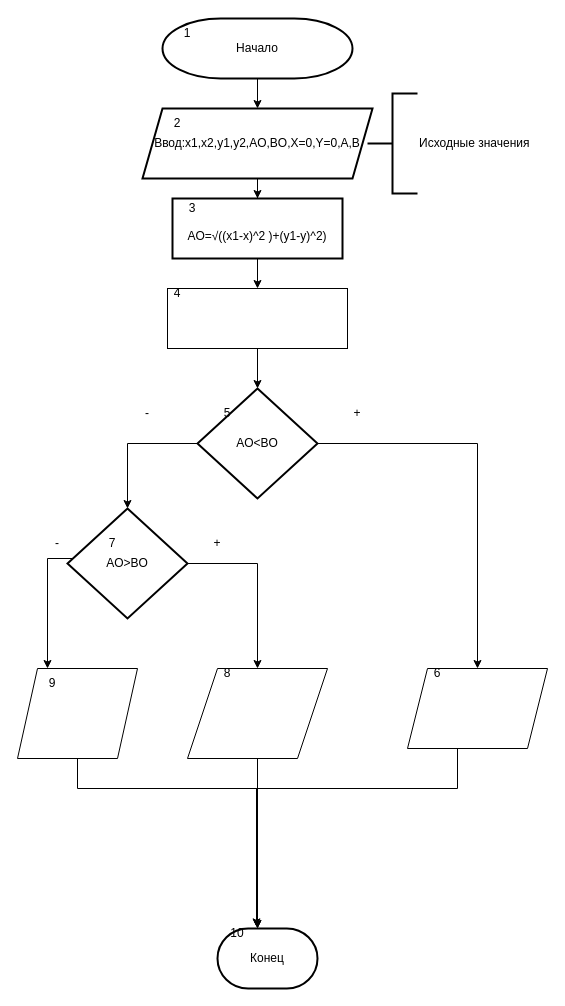
Some shapes in this 565 by 1006 pixel diagram are drawn without their labels. The box of each missing label's shape, as (x1, y1, x2, y2) in pixels:
BO =√((x2-x)^2 )+(y2-y)^2): (166, 288, 348, 348)
Точка A находиться ближе к началу координат: (186, 668, 328, 758)
Точка B находиться ближе к началу координат: (406, 668, 548, 748)
Точки находятся равноудаленно: (16, 668, 138, 758)
